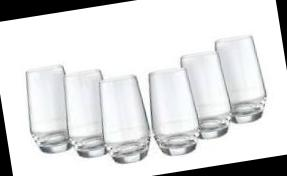glass: (138, 58, 208, 167), (209, 28, 276, 138), (178, 41, 239, 158)
